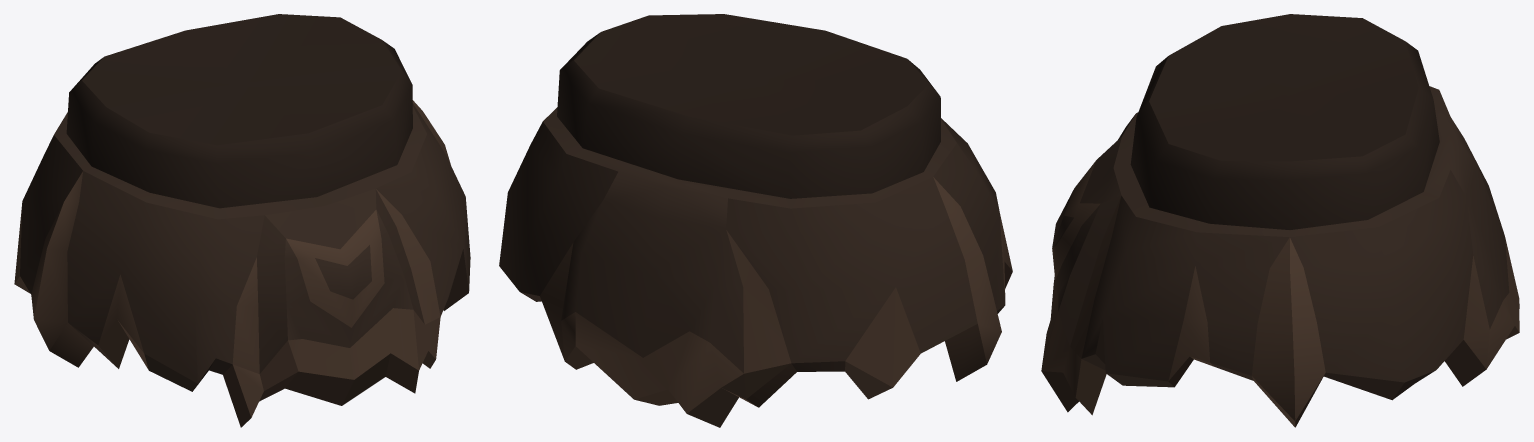
Rendered from Legs_58.fbx.
3 renders of one model, left to right at view 1: azimuth 30°, elevation 25°; view 2: azimuth 150°, elevation 25°; view 3: azimuth 270°, elevation 25°, orthographic. The views are drawn at different scales.
Visible parts, largest first — view 1: Legs_58; view 2: Legs_58; view 3: Legs_58.
Part boxes in pixels (box(x1,y1,x2,y2)): Legs_58: box(14, 14, 470, 427); Legs_58: box(499, 14, 1012, 427); Legs_58: box(1041, 14, 1519, 427).
Size of the model in its own units: 53.67 by 31.73 by 47.15.
